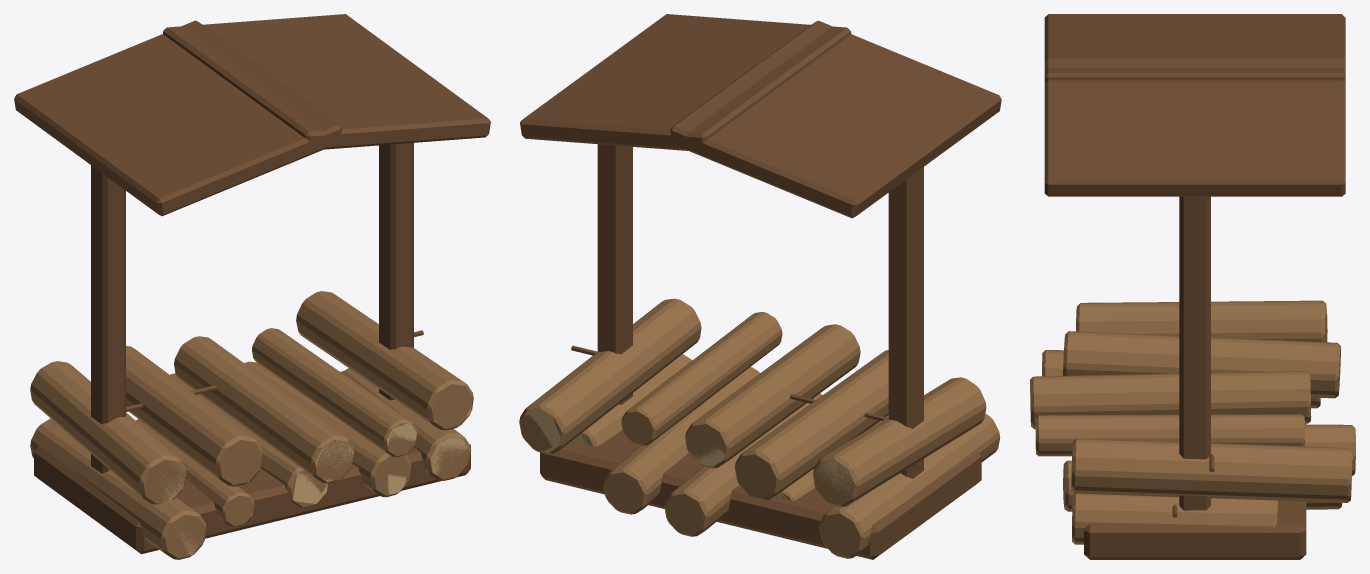
The model's file is runtime.glb.
The picture shows the model from 3 angles, left to right: view 1: azimuth 30°, elevation 25°; view 2: azimuth 150°, elevation 25°; view 3: azimuth 270°, elevation 25°; orthographic projection. The views are drawn at different scales.
Parts seen in each view (by area): view 1: falkenwacht-woodpile-v07_nocol; view 2: falkenwacht-woodpile-v07_nocol; view 3: falkenwacht-woodpile-v07_nocol.
Boxes of the visible parts, x1,y1,x2,y2 form: falkenwacht-woodpile-v07_nocol: (14,14,490,559); falkenwacht-woodpile-v07_nocol: (519,14,1001,559); falkenwacht-woodpile-v07_nocol: (1030,14,1355,559).
Bounding box in the file's own units: 2.33 × 2.58 × 1.84.
